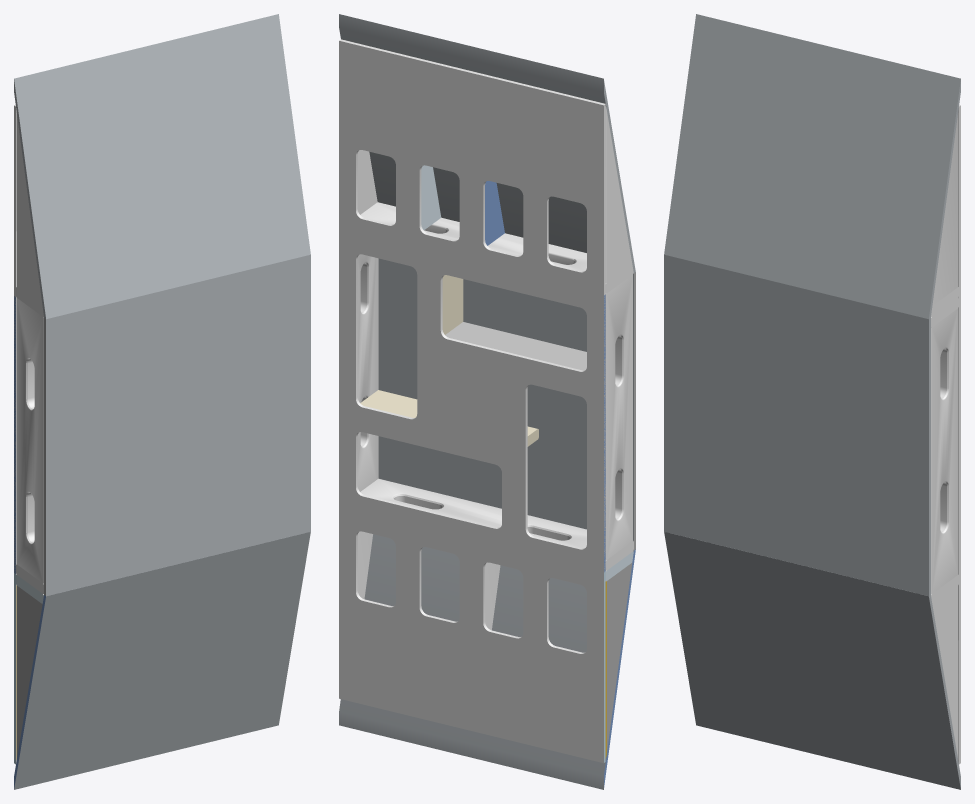
Rendered from 2026_ARC_3v3_small_ramp_right.gltf.
3 views of the same model, side by side, from view 1: azimuth 30°, elevation 25°; view 2: azimuth 150°, elevation 25°; view 3: azimuth 330°, elevation 25° (orthographic).
Parts seen in each view (by area): view 1: Surface 1018, Ramp, Surface 1030, Platform Wall, Ramp Wall, Surface 1027, Surface 1017, Surface 1019, Surface 1023, Surface 1031; view 2: Surface 1017, Surface 1028, Surface 1020, Surface 1018, Surface 1030, Ramp, Platform Wall (×2), Ramp Wall (×4), Platform, Part 153, Surface 1027, Part 143 (+7 smaller); view 3: Surface 1018, Ramp, Surface 1030, Platform, Ramp Wall (×2), Surface 1020, Surface 1028, Surface 1017.
Part boxes in pixels (<box>): Surface 1018: <box>46,254,310,596</box>; Ramp: <box>14,14,310,319</box>; Surface 1030: <box>14,531,310,789</box>; Platform Wall: <box>16,298,43,583</box>; Ramp Wall: <box>16,113,42,305</box>; Surface 1027: <box>17,586,42,757</box>; Surface 1017: <box>14,105,16,296</box>; Surface 1019: <box>44,318,45,595</box>; Surface 1023: <box>14,296,15,573</box>; Surface 1031: <box>14,595,45,788</box>; Surface 1017: <box>339,39,605,295</box>; Surface 1028: <box>339,508,603,763</box>; Surface 1020: <box>339,231,603,572</box>; Surface 1018: <box>378,258,633,550</box>; Surface 1030: <box>339,534,633,789</box>; Ramp: <box>339,14,635,273</box>; Platform Wall (×2): <box>360,274,633,570</box>; Ramp Wall (×4): <box>357,106,633,599</box>; Platform: <box>357,254,378,491</box>; Part 153: <box>445,322,586,370</box>; Surface 1027: <box>606,563,632,753</box>; Part 143: <box>360,390,538,446</box>; Surface 1018: <box>664,254,930,596</box>; Ramp: <box>664,14,960,319</box>; Surface 1030: <box>664,531,960,789</box>; Platform: <box>931,308,958,594</box>; Ramp Wall (×2): <box>932,113,958,759</box>; Surface 1020: <box>958,296,960,573</box>; Surface 1028: <box>958,573,960,764</box>; Surface 1017: <box>958,105,960,296</box>.
Size of the model in its own units: 1 by 2.57 by 0.21.
